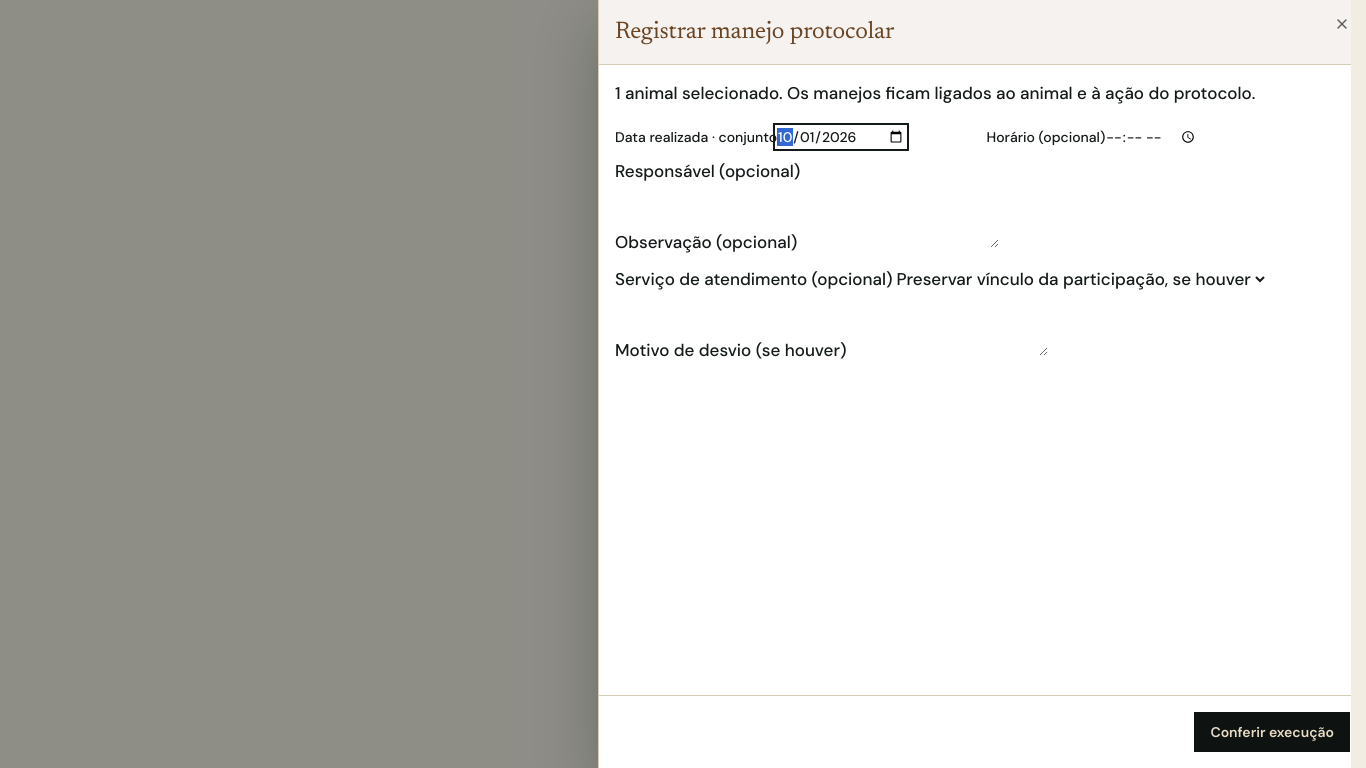
Test case: formulário real manejo/retirada › exibe valor somente com permissão e edição da data invalida conferência
Click the button "Conferir execução" at {"x": 1272, "y": 732}, box x1=1194 y1=712 x2=1350 y2=752
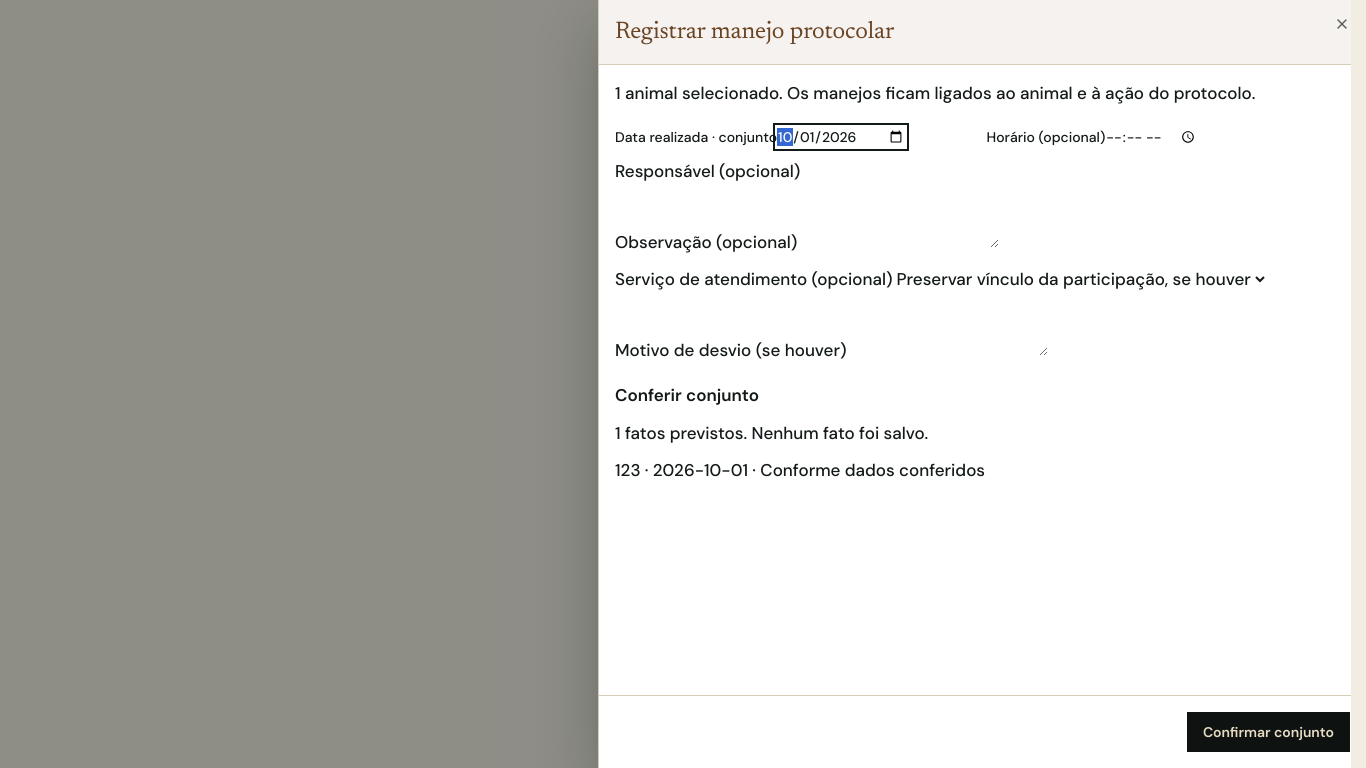
Now the button "Confirmar conjunto" is shown, box x1=1187 y1=712 x2=1350 y2=752
Type "2026-10-02" into the date field labelled "Data realizada · conjunto" at {"x": 841, "y": 136}, box x1=777 y1=126 x2=905 y2=146
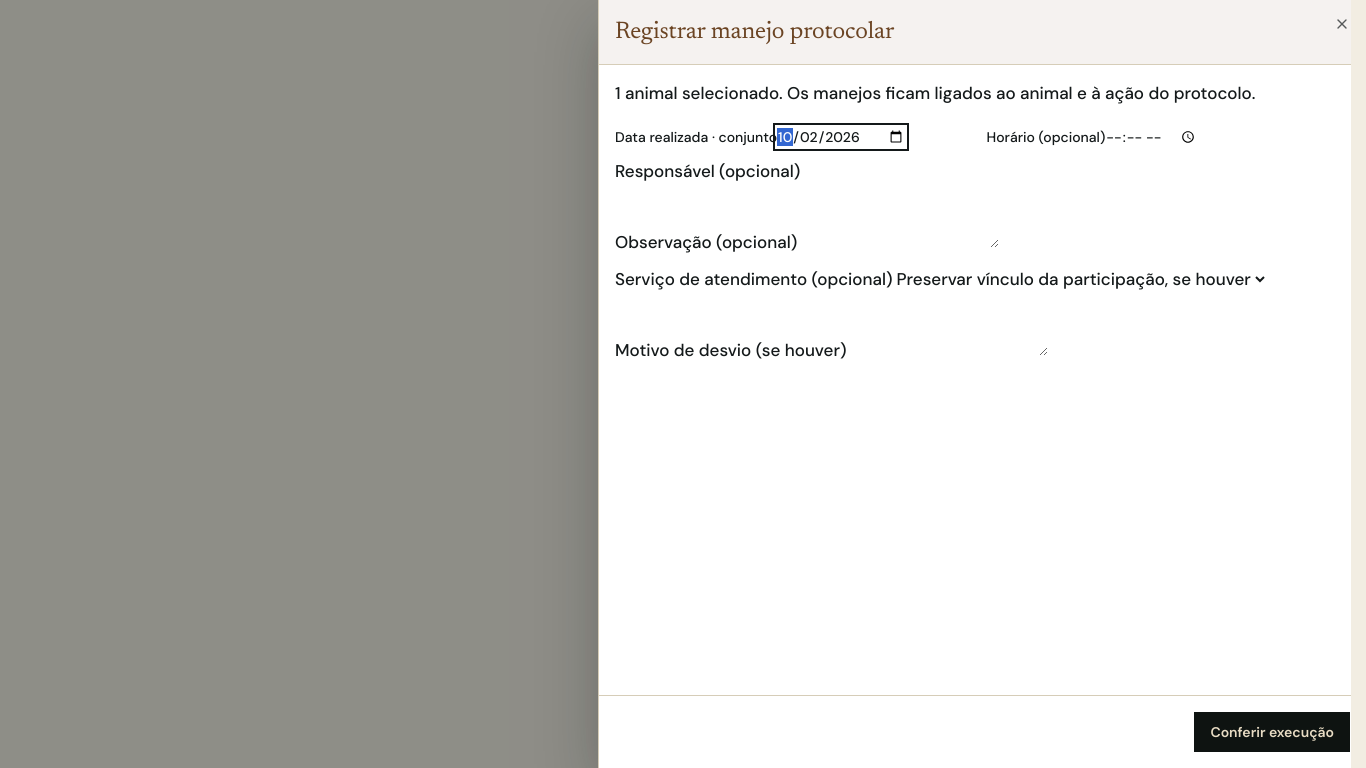
Now the button "Conferir execução" is shown, box x1=1194 y1=712 x2=1350 y2=752
